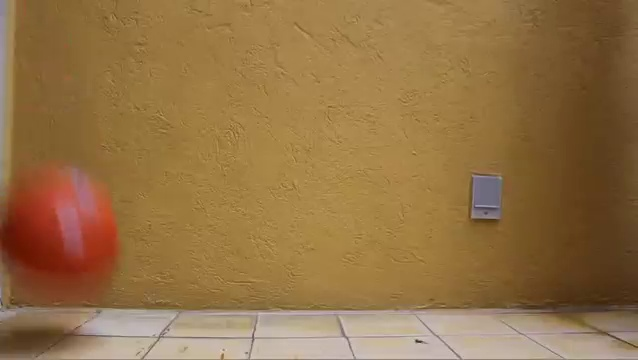ball: (1, 161, 121, 304)
